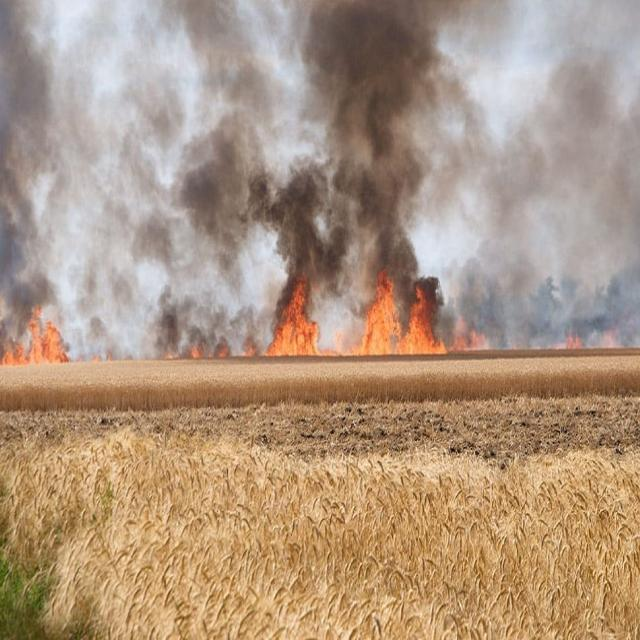Fire: (262, 266, 470, 361), (0, 296, 87, 366)
Smoke: (0, 0, 636, 350)
